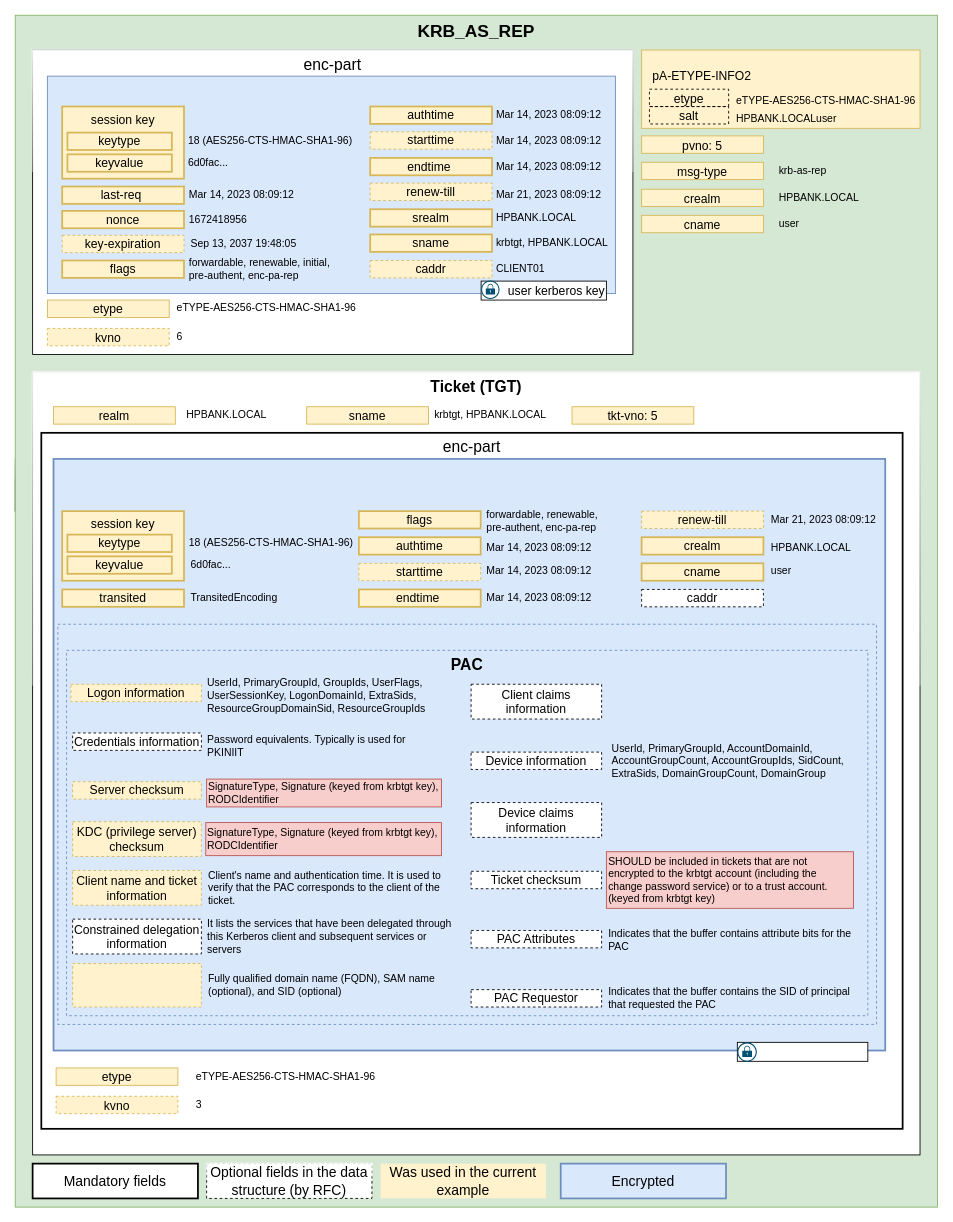
This 953x1222 diagram has some shape labels left out. Here are the shapes that lost their labels. From the top down, the box of each, then its label:
(641, 49, 920, 128): PADATA
(47, 75, 616, 294): EncASRepPart
(52, 458, 886, 1051): encTicketPart
(57, 623, 877, 1024): authorization-data
(72, 963, 201, 1007): User Principal Name and Domain Name System Information
(736, 1041, 868, 1061): krbtgt kerberos key
